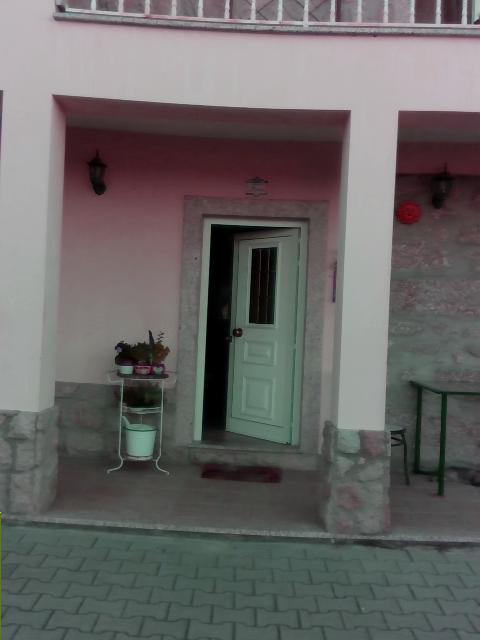semi_door: (191, 211, 309, 449)
